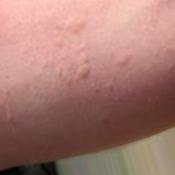Mosquito: (71, 59, 95, 83), (117, 52, 134, 69), (4, 108, 17, 127), (64, 19, 85, 30)
